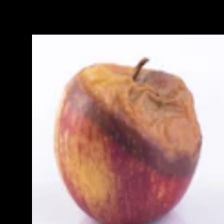apple: (29, 53, 193, 210)
